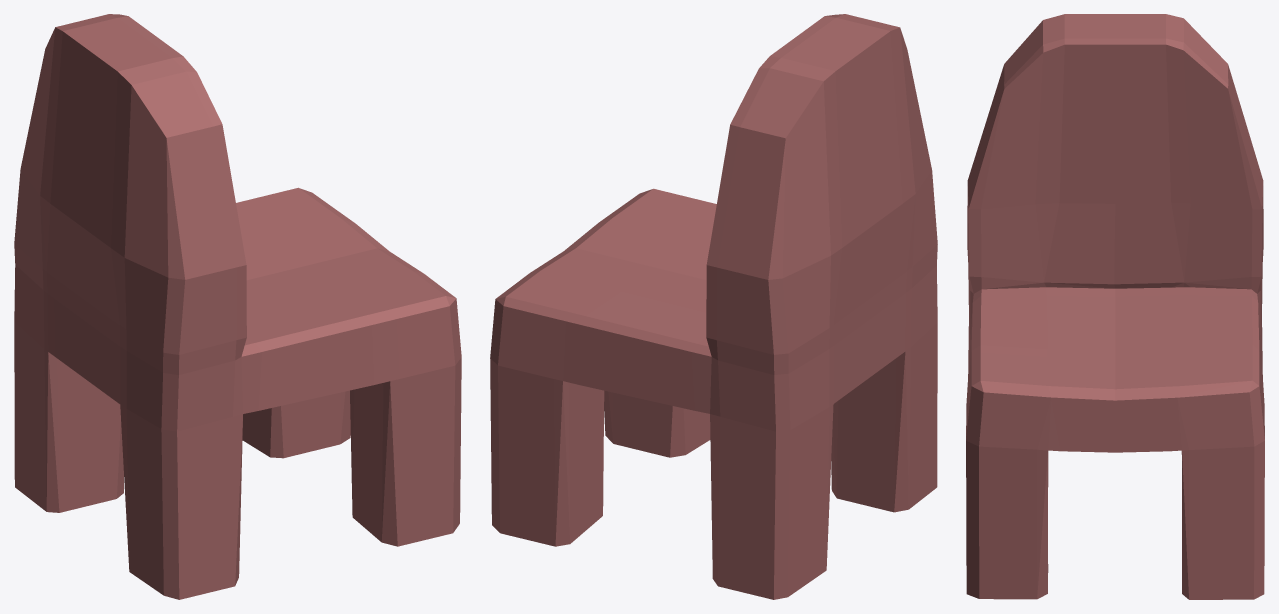
File: chair2.glb
The picture shows the model from 3 angles, left to right: view 1: azimuth 30°, elevation 25°; view 2: azimuth 150°, elevation 25°; view 3: azimuth 270°, elevation 25°; orthographic projection. The views are drawn at different scales.
Parts seen in each view (by area): view 1: Cube; view 2: Cube; view 3: Cube.
Part boxes in pixels (x1,y1,x2,y2): Cube: (14, 14, 461, 599); Cube: (490, 14, 937, 599); Cube: (966, 14, 1264, 599).
Bounding box in the file's own units: 1.48 × 2.23 × 1.33.
